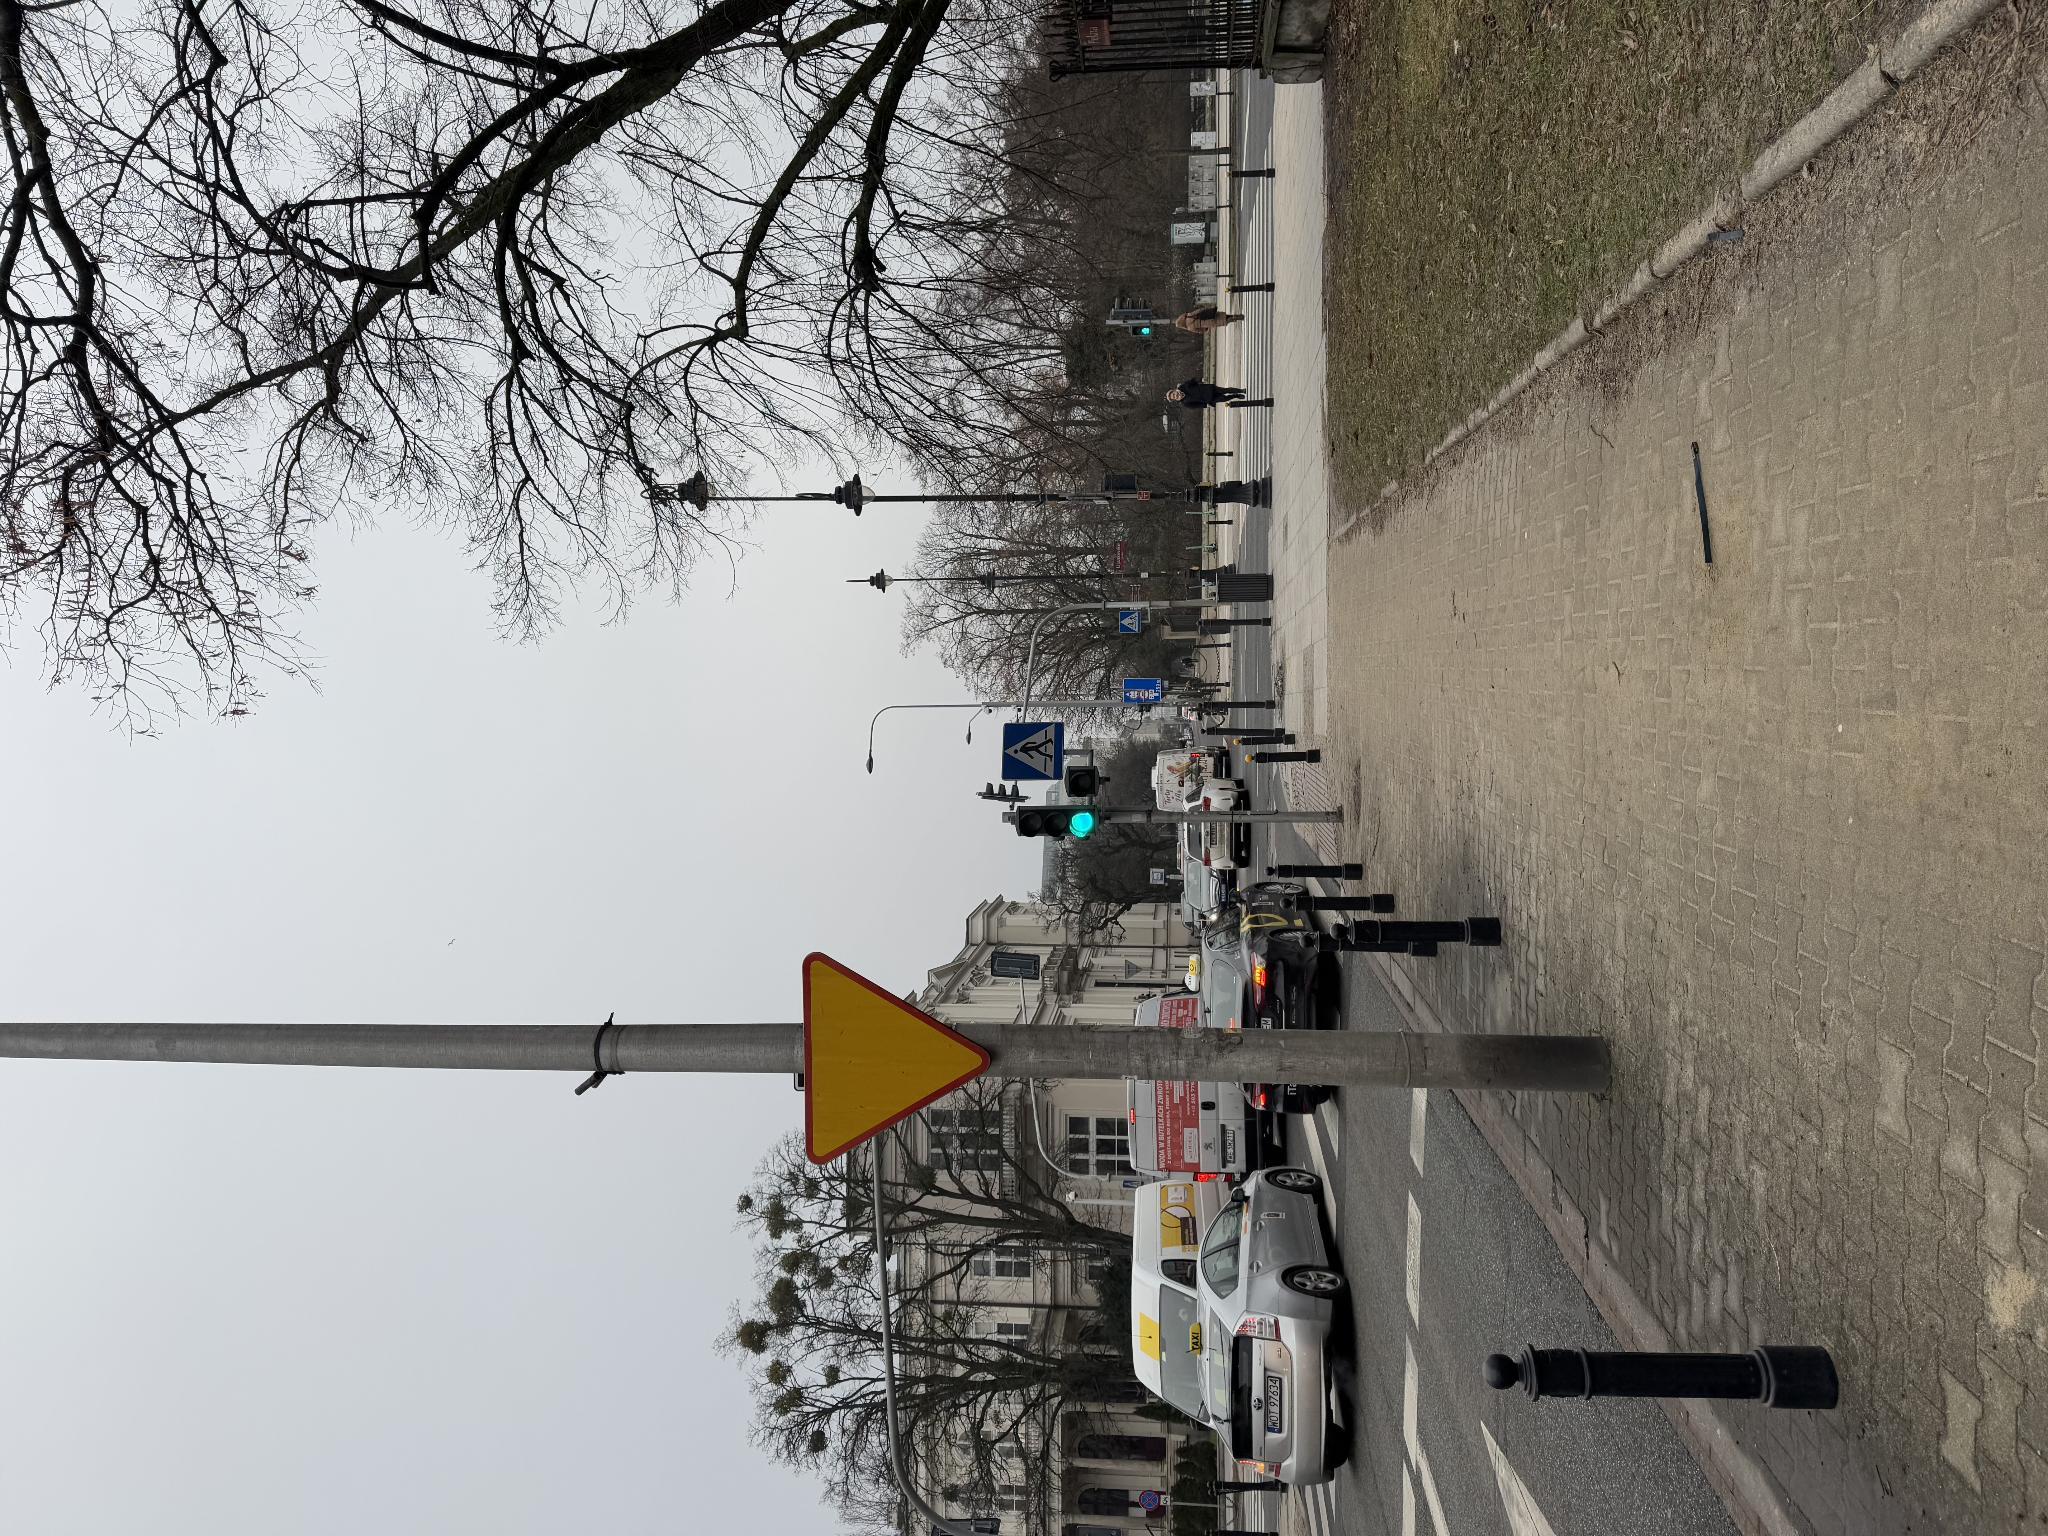information: (755, 1002, 816, 1063), (903, 1120, 926, 1141), (347, 1123, 355, 1142)
other: (834, 1123, 858, 1160), (32, 1160, 40, 1170)
prohibitory: (26, 1137, 47, 1160)
warning: (371, 800, 584, 995)
